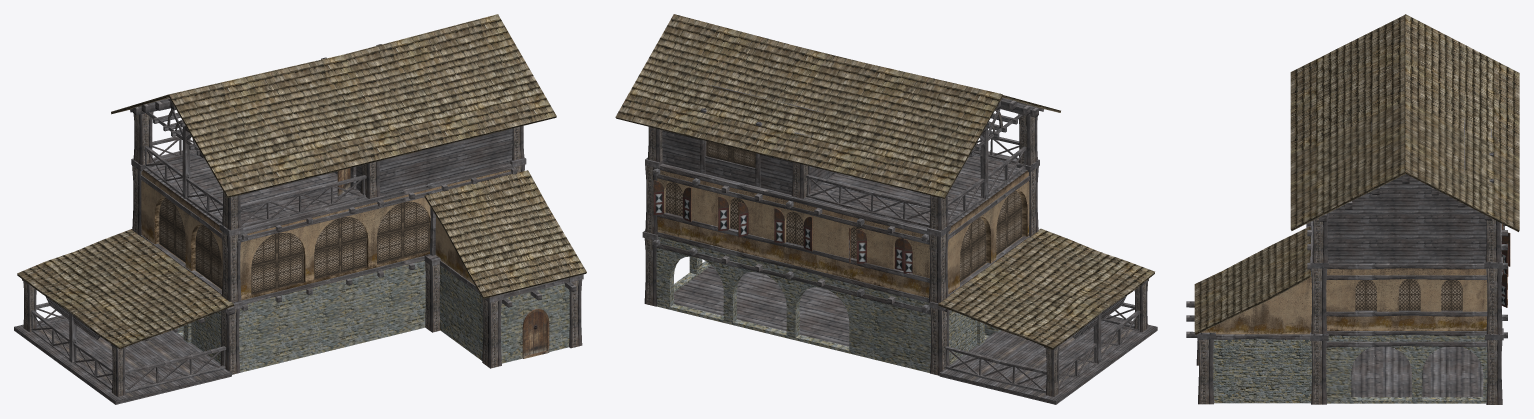
File: tavern2.dae
3 views of the same model, side by side, from view 1: azimuth 30°, elevation 25°; view 2: azimuth 150°, elevation 25°; view 3: azimuth 270°, elevation 25° (orthographic). The views are drawn at different scales.
Parts seen in each view (by area): view 1: house; view 2: house; view 3: house.
Boxes of the visible parts, bbox=[...] form: house: bbox=[14, 14, 586, 404]; house: bbox=[615, 14, 1157, 404]; house: bbox=[1186, 14, 1519, 404].
Bounding box in the file's own units: 33.91 × 18.75 × 23.09.
